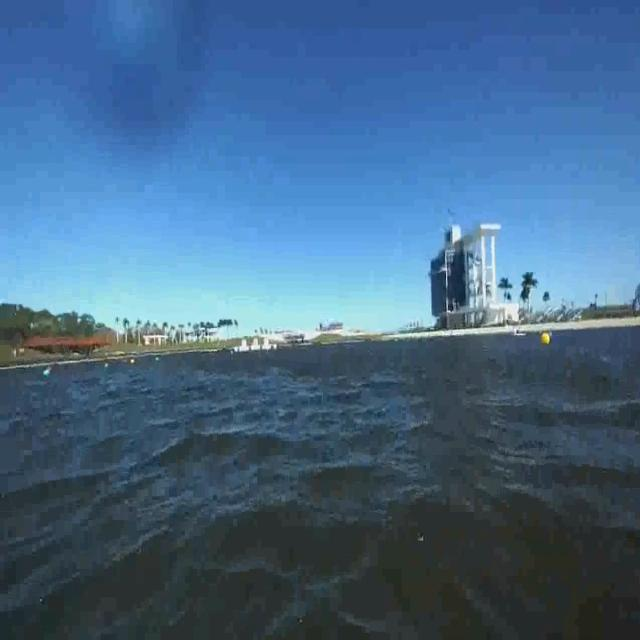yellow-buoy: (540, 332, 550, 348)
